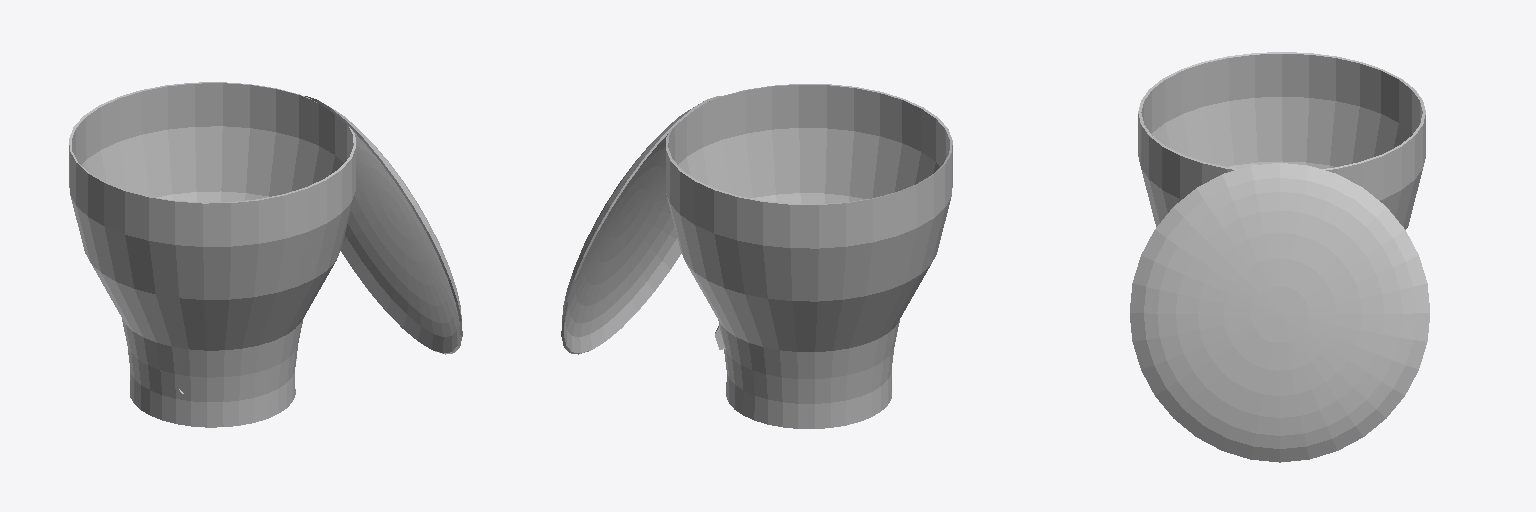
File: poubelle.obj
3 views of the same model, side by side, from view 1: azimuth 30°, elevation 25°; view 2: azimuth 150°, elevation 25°; view 3: azimuth 270°, elevation 25° (orthographic).
Bounding box in the file's own units: 0.929 × 0.6903 × 0.7253.